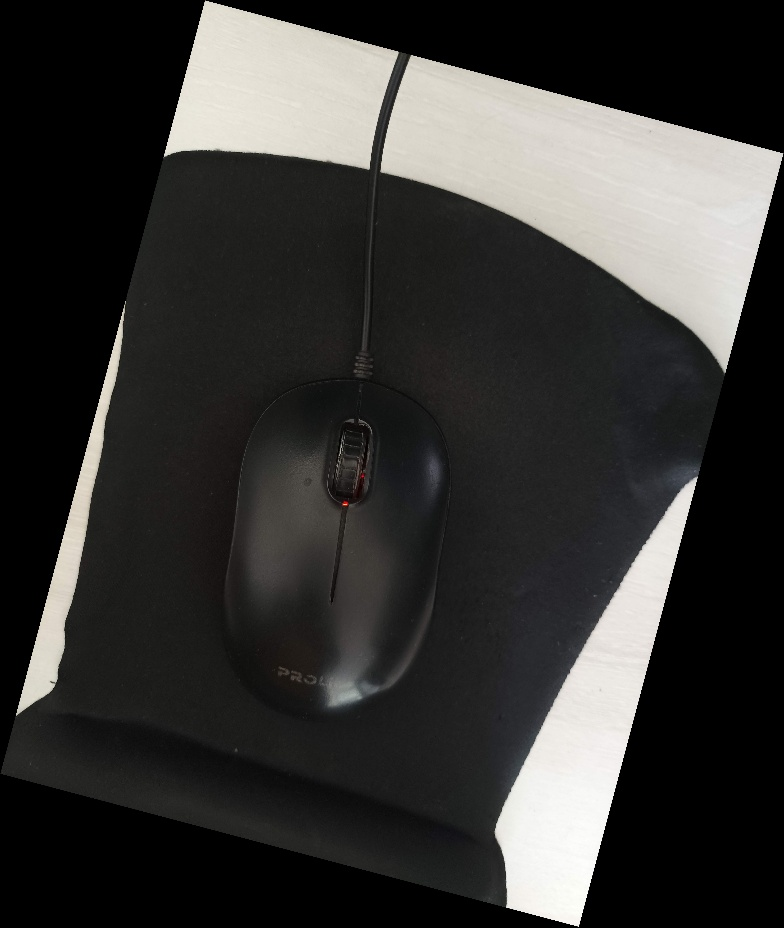mouse: (216, 366, 455, 724)
